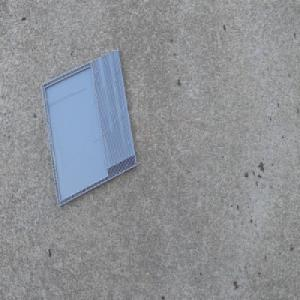PlasticPart: (41, 48, 138, 209)
